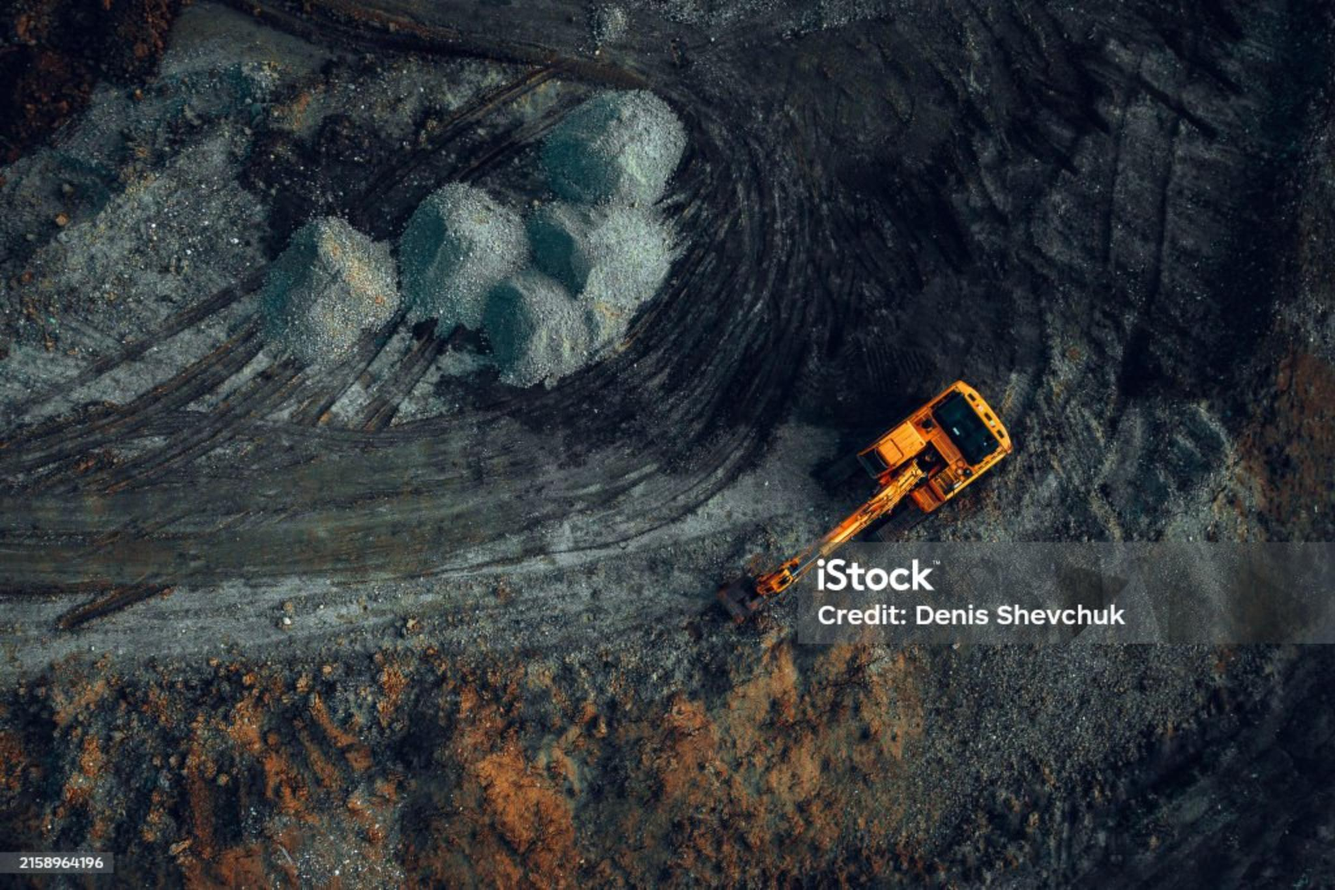benches: (0, 128, 808, 616)
excavator: (715, 378, 1021, 617)
